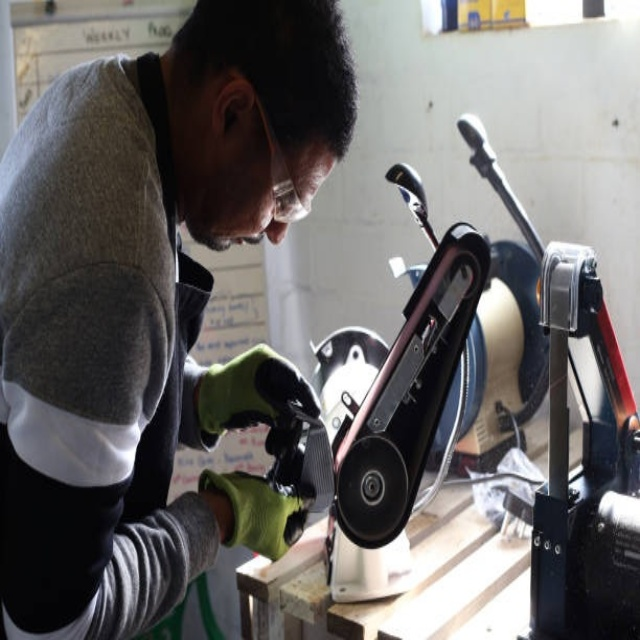Gafas: (251, 87, 305, 227)
Guantes: (195, 342, 322, 444), (200, 468, 305, 562)
Sin_mascara: (204, 216, 278, 259)
